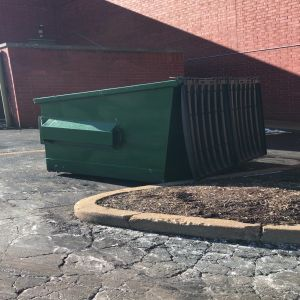Dumpster: (32, 74, 268, 175)
